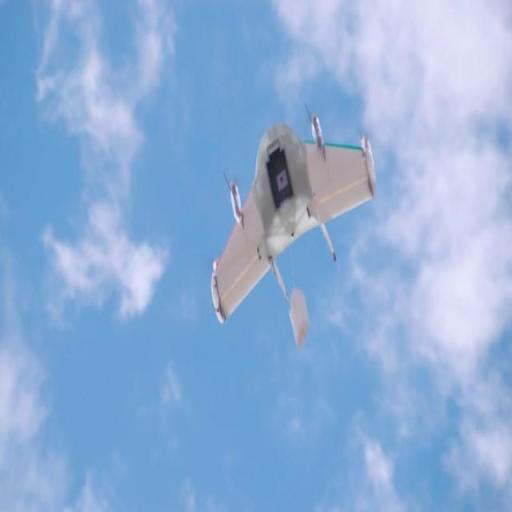uav: (204, 96, 386, 350)
